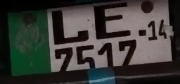LE7517: (3, 2, 177, 79)
